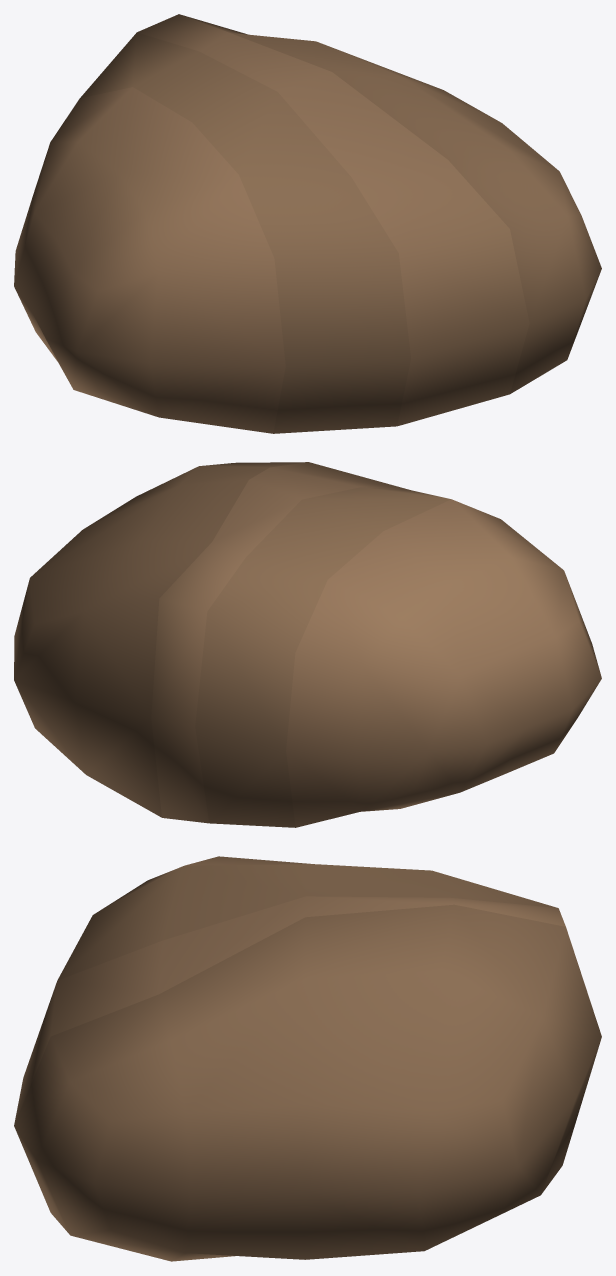
The model's file is SandstonePebble.002.glb.
3 renders of one model, top to bottom at view 1: azimuth 30°, elevation 25°; view 2: azimuth 150°, elevation 25°; view 3: azimuth 270°, elevation 25°, orthographic. The views are drawn at different scales.
Parts seen in each view (by area): view 1: SandstonePebble.002; view 2: SandstonePebble.002; view 3: SandstonePebble.002.
Boxes of the visible parts, box(x1,y1,x2,y2) form: SandstonePebble.002: box(14, 14, 601, 433); SandstonePebble.002: box(14, 462, 601, 827); SandstonePebble.002: box(14, 856, 601, 1261).
Size of the model in its own units: 10.91 by 5.92 by 10.49.
